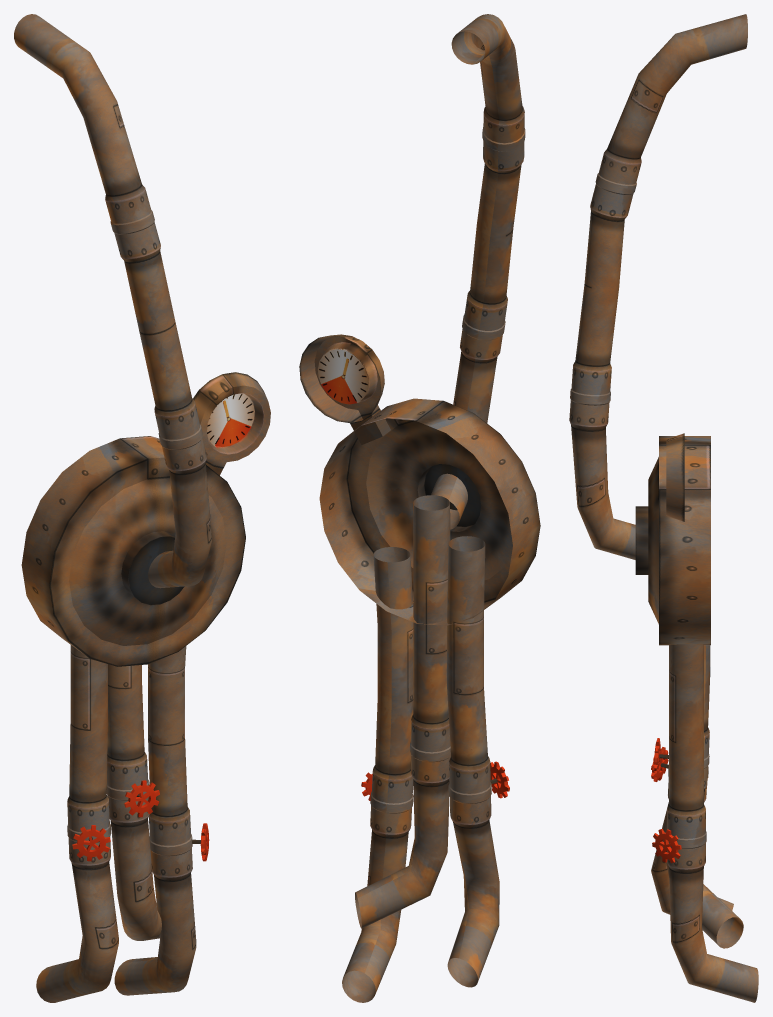
Rendered from prop_BG02.fbx.
3 renders of one model, left to right at view 1: azimuth 30°, elevation 25°; view 2: azimuth 150°, elevation 25°; view 3: azimuth 270°, elevation 25°, orthographic. The views are drawn at different scales.
Visible parts, largest first — view 1: polySurface21; view 2: polySurface21; view 3: polySurface21.
Boxes of the visible parts, left/top/right/bottom form: polySurface21: left=14, top=14, right=270, bottom=1002; polySurface21: left=299, top=14, right=540, bottom=1002; polySurface21: left=569, top=14, right=758, bottom=1002.
Bounding box in the file's own units: 6.08 × 25.35 × 4.64.
